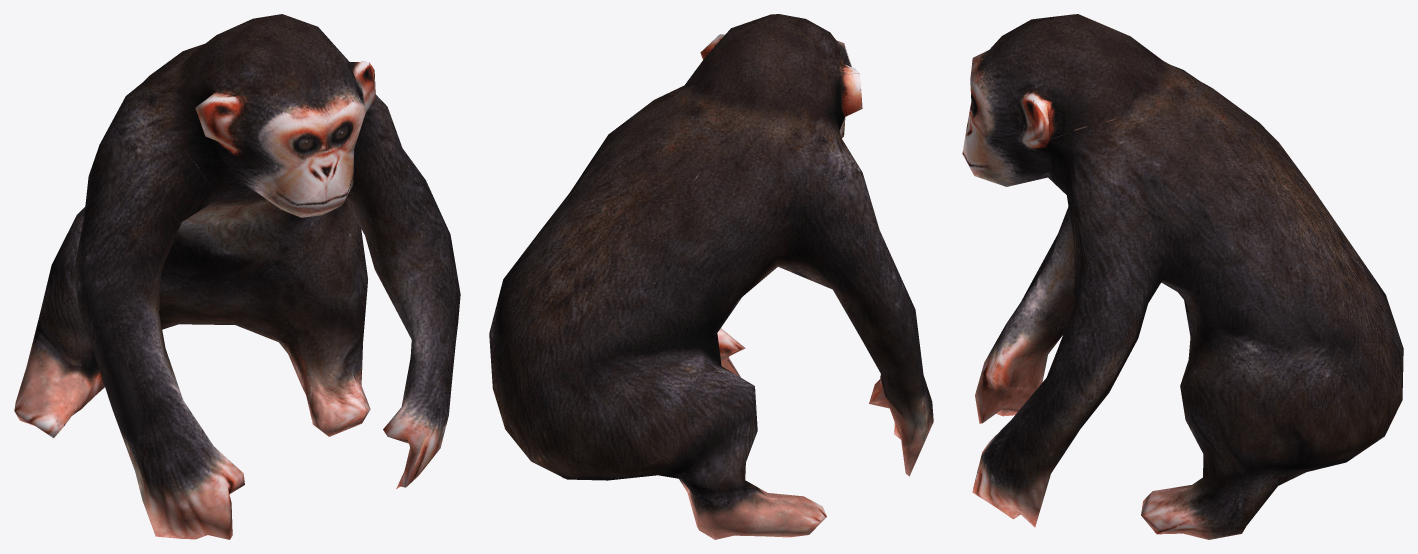
File: uploads_files_5014694_Monkey_Low_Poly.fbx
3 views of the same model, side by side, from view 1: azimuth 30°, elevation 25°; view 2: azimuth 150°, elevation 25°; view 3: azimuth 270°, elevation 25° (orthographic). The views are drawn at different scales.
Visible parts, largest first — view 1: Monkey_Low_Poly; view 2: Monkey_Low_Poly; view 3: Monkey_Low_Poly.
Part boxes in pixels (<box>): Monkey_Low_Poly: <box>14,14,460,539</box>; Monkey_Low_Poly: <box>489,14,933,539</box>; Monkey_Low_Poly: <box>962,14,1403,539</box>.
Bounding box in the file's own units: 49.94 × 62.98 × 55.03.
1 material, 1 textured.
